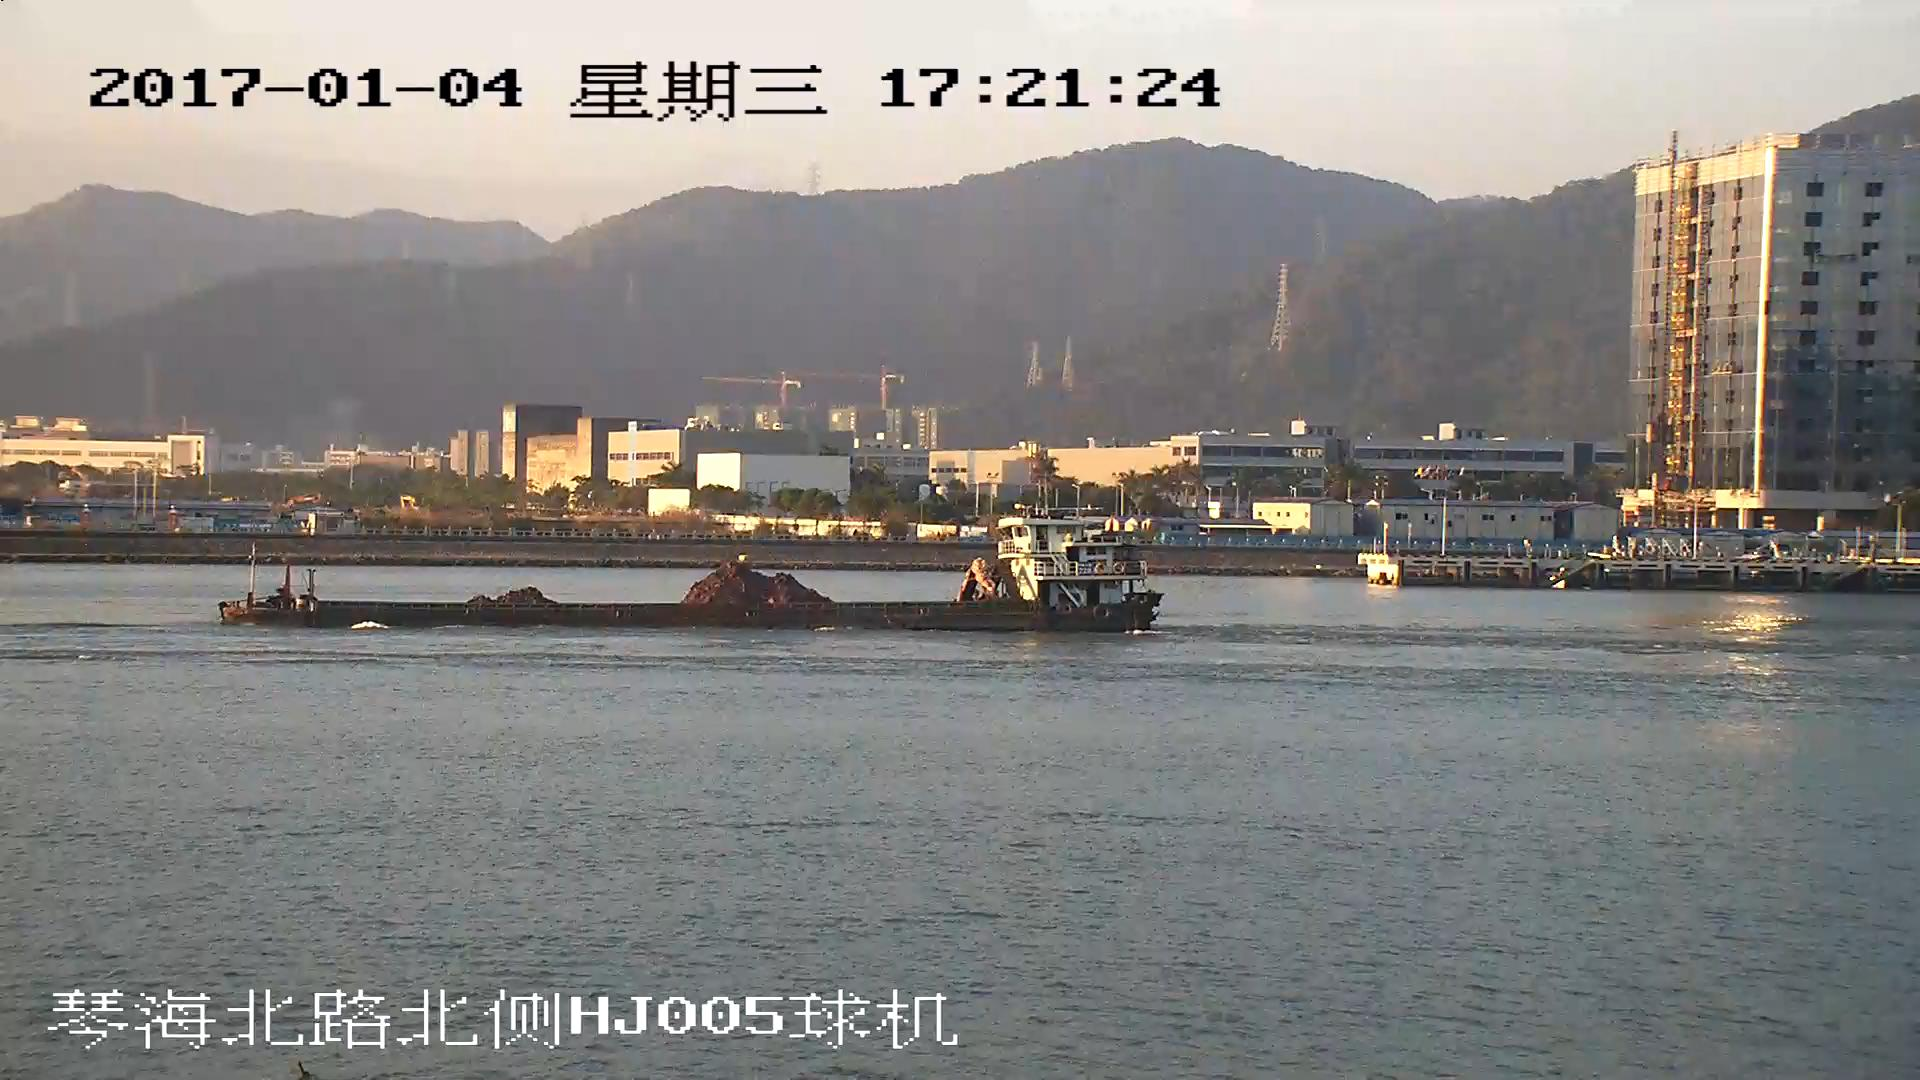ore carrier: (222, 515, 1163, 631)
